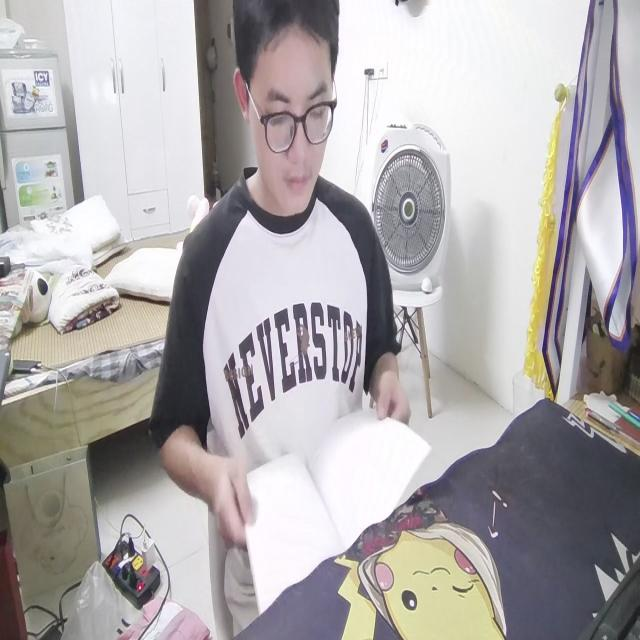book: (230, 393, 428, 604)
student: (148, 0, 414, 612)
